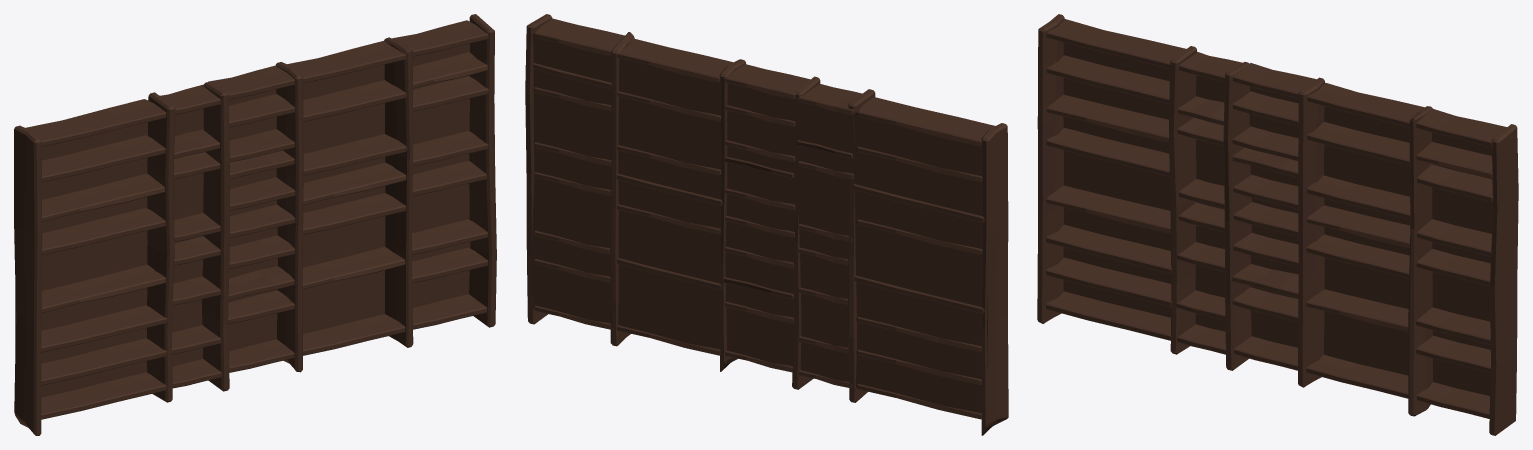
The model's file is bookshelf big 2.fbx.
3 views of the same model, side by side, from view 1: azimuth 30°, elevation 25°; view 2: azimuth 150°, elevation 25°; view 3: azimuth 330°, elevation 25° (orthographic).
Visible parts, largest first — view 1: Plane.002, Cube.042, Cube.039, Cube.019, Cube.041, Cube.040, Cube.020, Cube.048, Cube.073, Cube.045, Cube.072, Cube.071 (+36 smaller); view 2: Plane.002, Cube.042, Cube.048, Cube.039, Cube.041, Cube.047, Cube.040, Cube.020, Cube.059, Cube.026, Cube.019, Cube.063 (+20 smaller); view 3: Plane.002, Cube.041, Cube.020, Cube.042, Cube.040, Cube.019, Cube.039, Cube.048, Cube.073, Cube.045, Cube.072, Cube.068 (+36 smaller).
Part boxes in pixels (<box>): Plane.002: <box>15,43,470,397</box>; Cube.042: <box>14,125,42,435</box>; Cube.039: <box>384,37,413,347</box>; Cube.019: <box>202,81,229,391</box>; Cube.041: <box>469,14,496,327</box>; Cube.040: <box>147,92,175,402</box>; Cube.020: <box>275,62,303,372</box>; Cube.048: <box>25,99,166,146</box>; Cube.073: <box>41,338,167,385</box>; Cube.045: <box>41,372,166,419</box>; Cube.072: <box>41,305,167,352</box>; Cube.071: <box>41,264,165,313</box>; Plane.002: <box>531,33,988,413</box>; Cube.042: <box>981,123,1008,435</box>; Cube.048: <box>856,97,994,146</box>; Cube.039: <box>610,32,634,346</box>; Cube.041: <box>525,14,552,324</box>; Cube.047: <box>617,39,732,82</box>; Cube.040: <box>848,89,875,402</box>; Cube.020: <box>719,59,745,371</box>; Cube.059: <box>534,18,624,56</box>; Cube.026: <box>725,64,810,99</box>; Cube.019: <box>792,76,820,389</box>; Cube.063: <box>798,84,862,115</box>; Plane.002: <box>1063,42,1492,395</box>; Cube.041: <box>1489,124,1518,435</box>; Cube.020: <box>1298,77,1324,387</box>; Cube.042: <box>1037,14,1064,323</box>; Cube.040: <box>1169,46,1196,354</box>; Cube.019: <box>1223,62,1251,370</box>; Cube.039: <box>1408,106,1432,416</box>; Cube.048: <box>1046,19,1185,68</box>; Cube.073: <box>1046,257,1171,306</box>; Cube.045: <box>1046,291,1171,340</box>; Cube.072: <box>1046,224,1171,273</box>; Cube.068: <box>1046,127,1169,176</box>.
Bounding box in the file's own units: 965 × 597 × 84.33.
